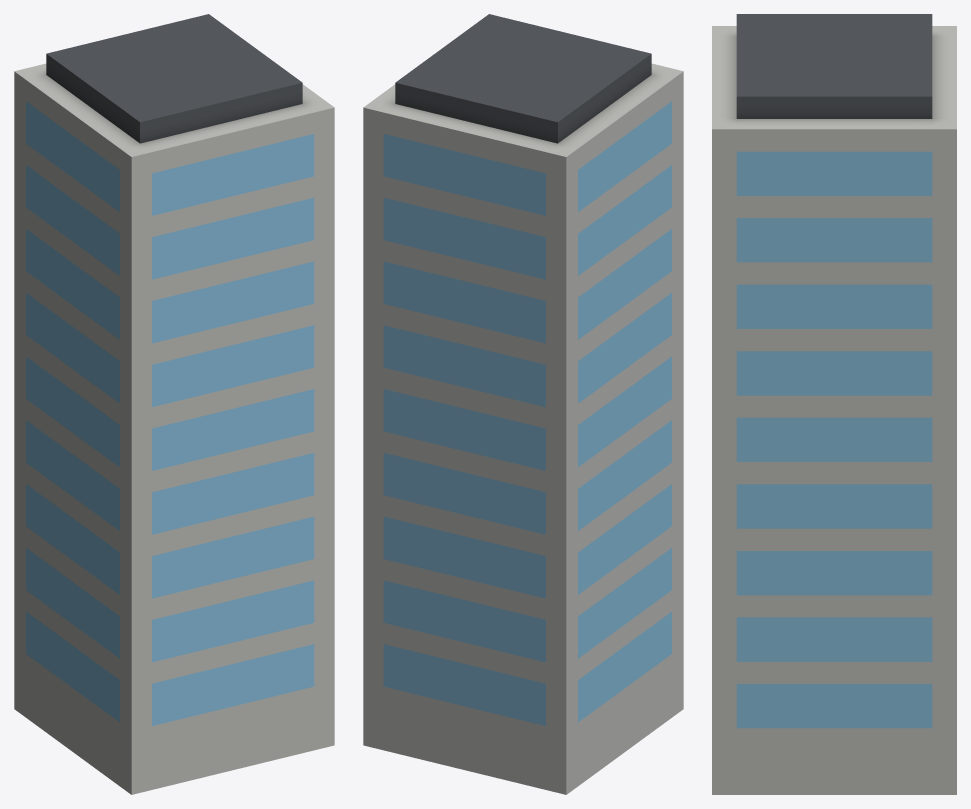
Rendered from c_block.glb.
3 renders of one model, left to right at view 1: azimuth 30°, elevation 25°; view 2: azimuth 150°, elevation 25°; view 3: azimuth 270°, elevation 25°, orthographic. The views are drawn at different scales.
Parts seen in each view (by area): view 1: c_block_body; view 2: c_block_body; view 3: c_block_body.
Part boxes in pixels (bbox=[...]): c_block_body: bbox=[14, 14, 334, 794]; c_block_body: bbox=[363, 14, 683, 794]; c_block_body: bbox=[712, 14, 956, 794].
Bounding box in the file's own units: 0.625 × 1.94 × 0.625.
Materials: 1 (1 with a texture image).
